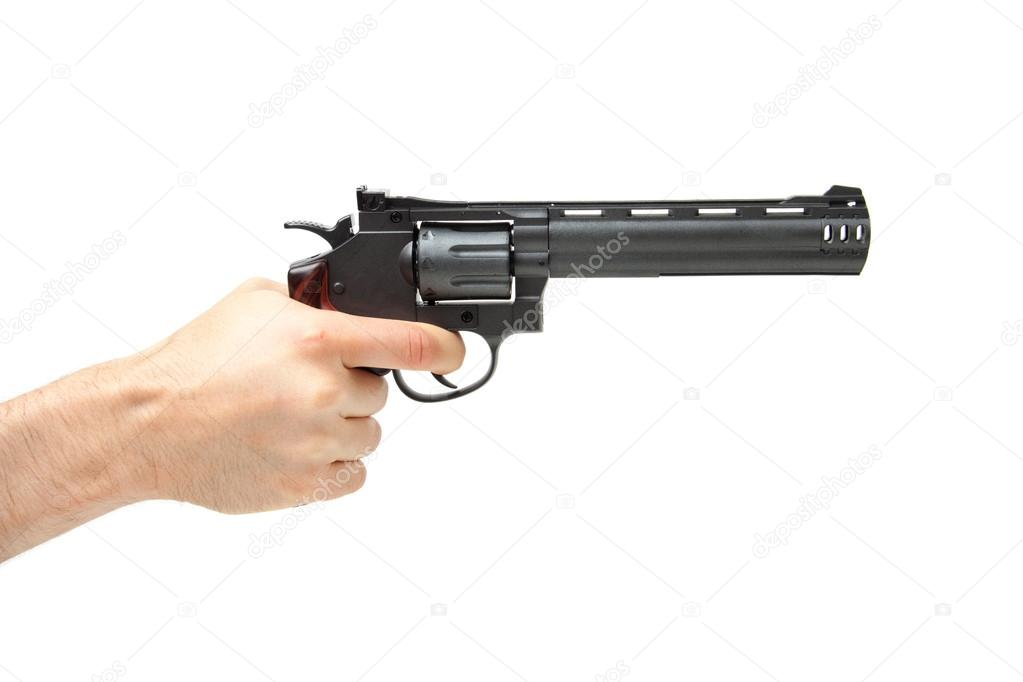pistol: (125, 121, 966, 566)
